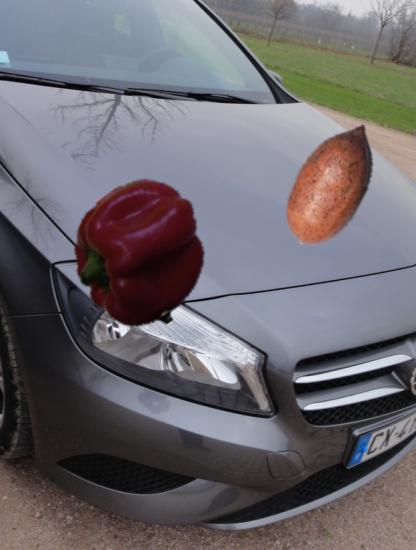Nut: (264, 117, 399, 252)
Pepper: (73, 184, 214, 325)
